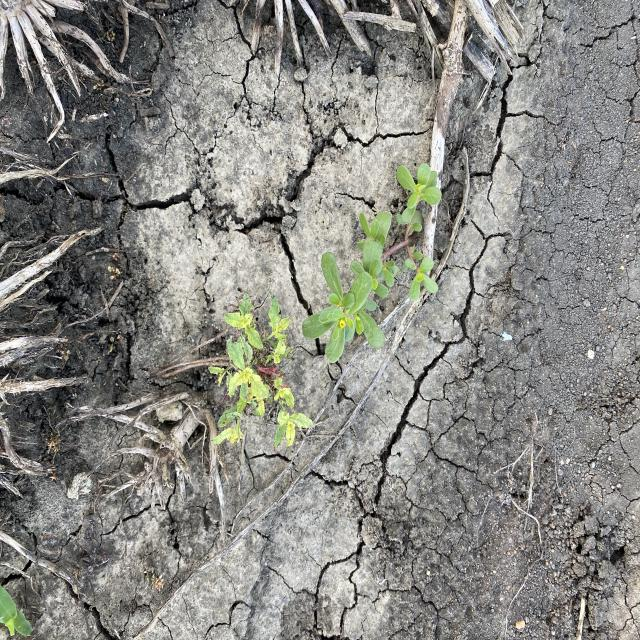Purslane: (301, 159, 443, 364)
